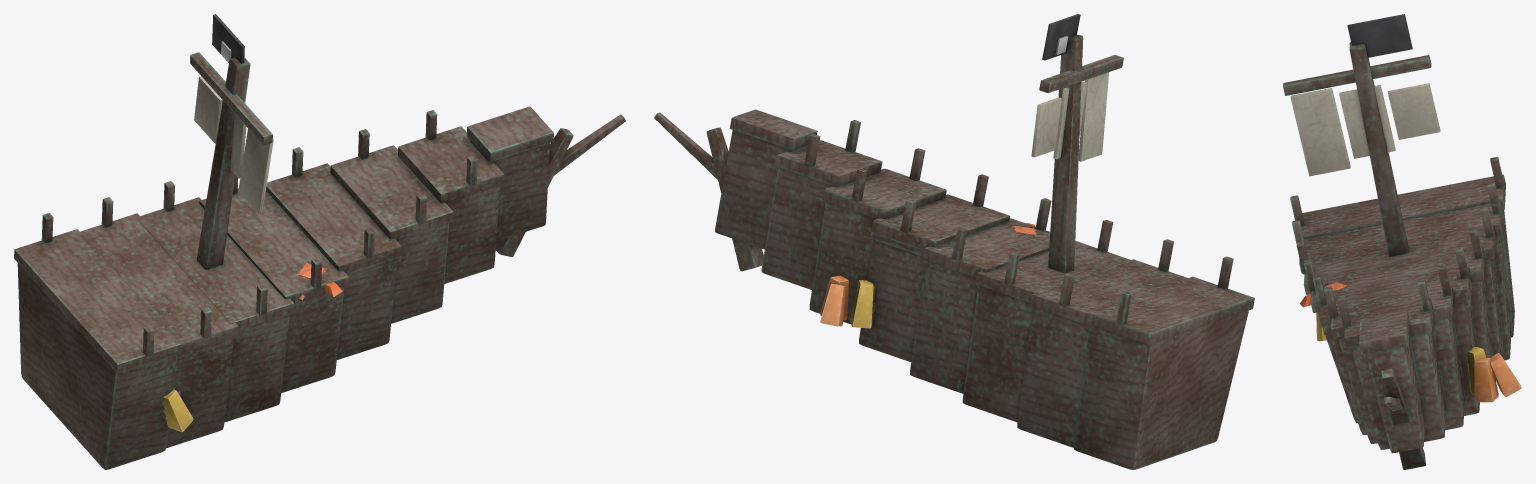
The model's file is Abysses_Epave.fbx.
3 renders of one model, left to right at view 1: azimuth 30°, elevation 25°; view 2: azimuth 150°, elevation 25°; view 3: azimuth 270°, elevation 25°, orthographic.
Visible parts, largest first — view 1: Abysses_Epave; view 2: Abysses_Epave; view 3: Abysses_Epave.
Part boxes in pixels (left/top/right/bottom): Abysses_Epave: left=14, top=14, right=625, bottom=469; Abysses_Epave: left=654, top=14, right=1254, bottom=469; Abysses_Epave: left=1283, top=14, right=1521, bottom=469.
Bounding box in the file's own units: 2362 × 1643 × 894.
1 material, 1 textured.
